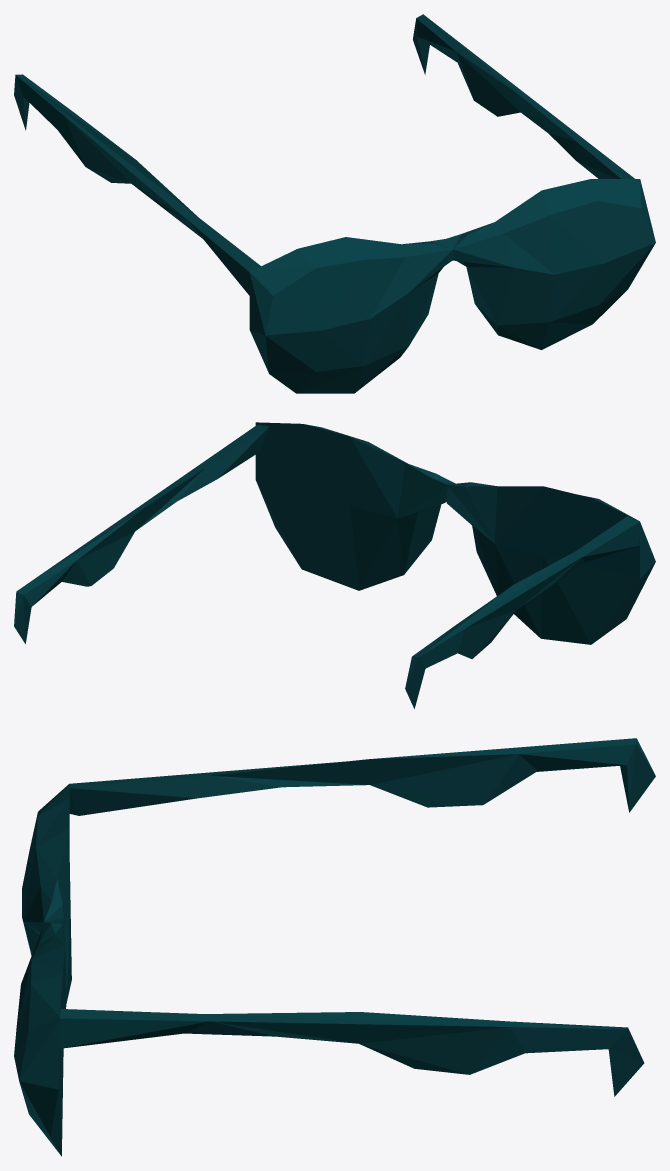
The model's file is glb_1.glb.
3 renders of one model, top to bottom at view 1: azimuth 30°, elevation 25°; view 2: azimuth 150°, elevation 25°; view 3: azimuth 270°, elevation 25°, orthographic. The views are drawn at different scales.
Parts seen in each view (by area): view 1: node_MeshObject-1234959104-PolyPaper17; view 2: node_MeshObject-1234959104-PolyPaper17; view 3: node_MeshObject-1234959104-PolyPaper17.
Part boxes in pixels (x1=…): node_MeshObject-1234959104-PolyPaper17: x1=14, y1=14, x2=655, y2=393; node_MeshObject-1234959104-PolyPaper17: x1=14, y1=422, x2=655, y2=708; node_MeshObject-1234959104-PolyPaper17: x1=14, y1=738, x2=655, y2=1156.
Bounding box in the file's own units: 0.7349 × 0.307 × 0.8086.
